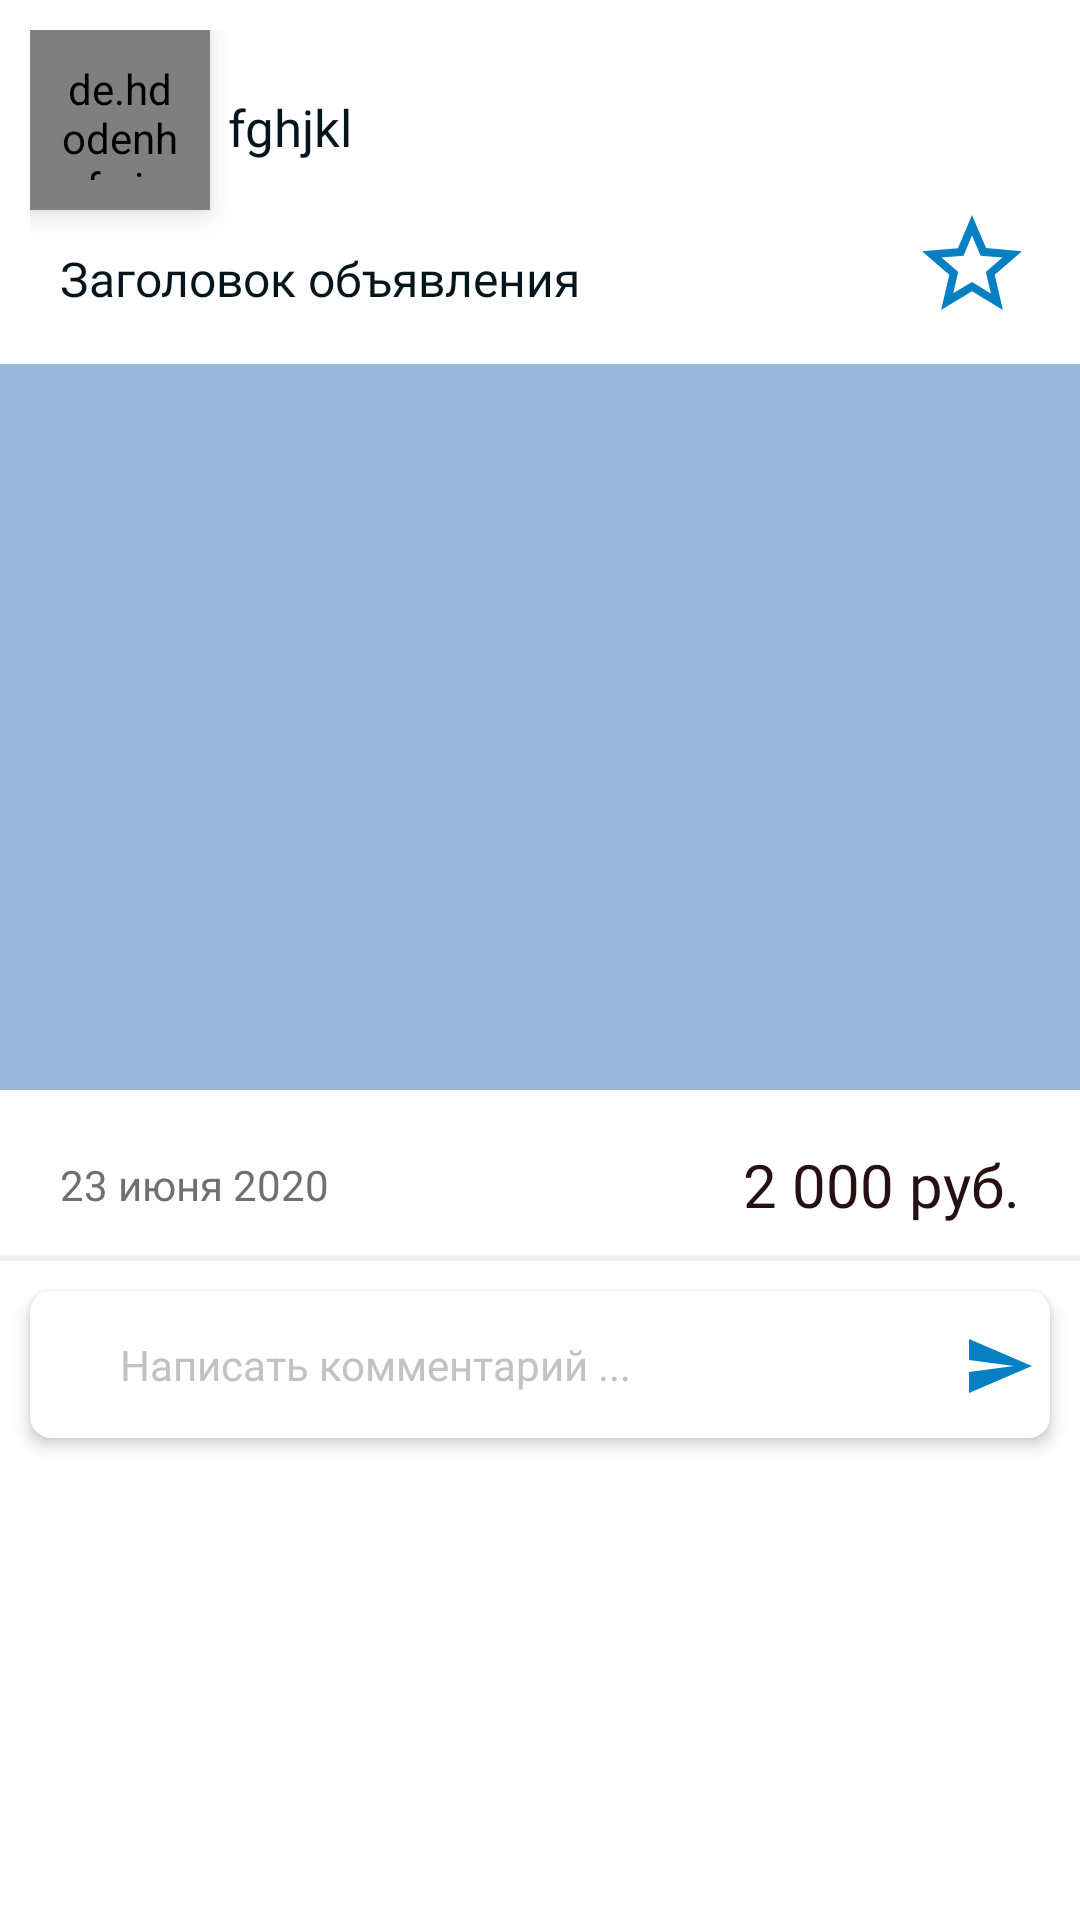

Icon click points for this 1080w x 1920h phone screenshot, format (x,y):
send: (1000,1366)
